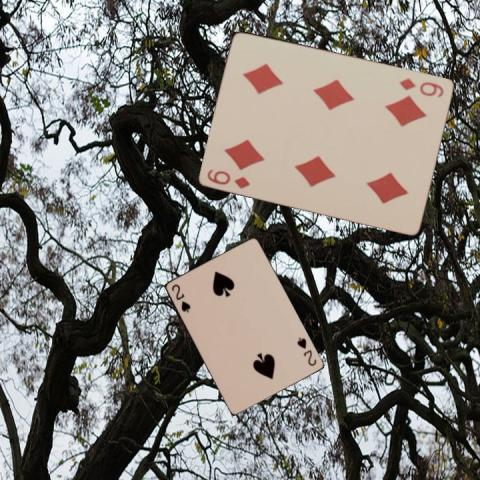2s: (168, 281, 192, 314), (294, 335, 317, 367)
6d: (397, 75, 445, 99), (205, 166, 252, 190)
